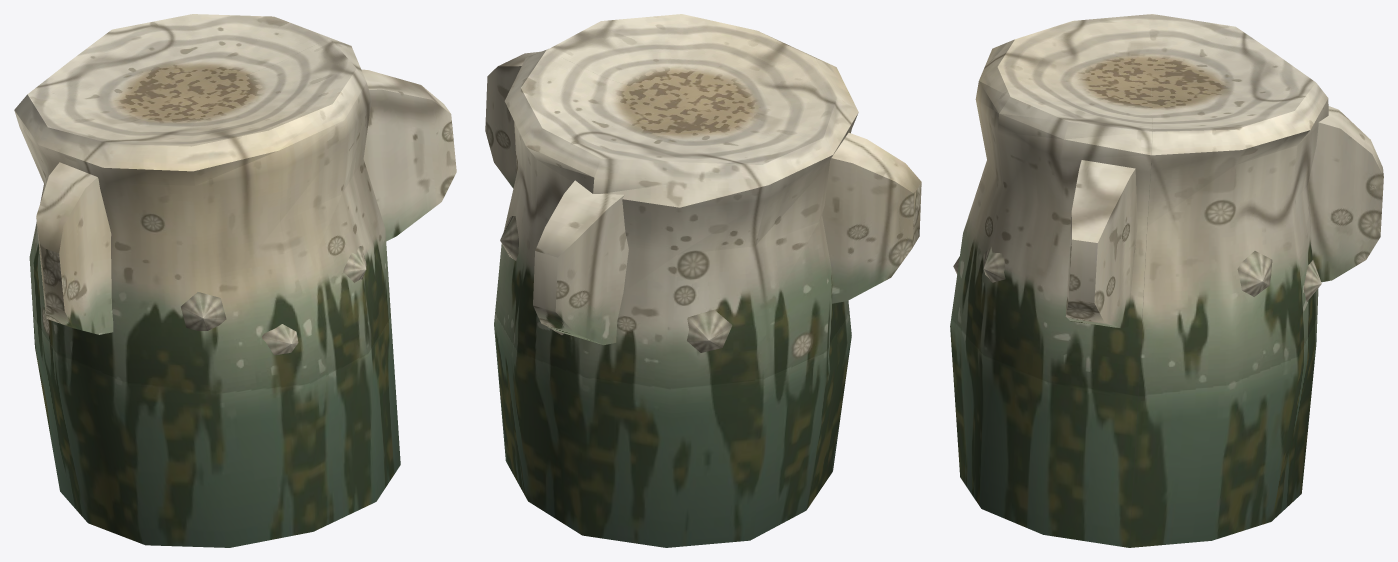
The model's file is vertebra.glb.
3 renders of one model, left to right at view 1: azimuth 30°, elevation 25°; view 2: azimuth 150°, elevation 25°; view 3: azimuth 270°, elevation 25°, orthographic. The views are drawn at different scales.
Visible parts, largest first — view 1: vertebra; view 2: vertebra; view 3: vertebra.
Part boxes in pixels (x1=…): vertebra: x1=14, y1=14, x2=456, y2=547; vertebra: x1=485, y1=14, x2=921, y2=547; vertebra: x1=950, y1=14, x2=1383, y2=547.
Bounding box in the file's own units: 2.6 × 2.47 × 2.29.
Materials: 1 (1 with a texture image).
